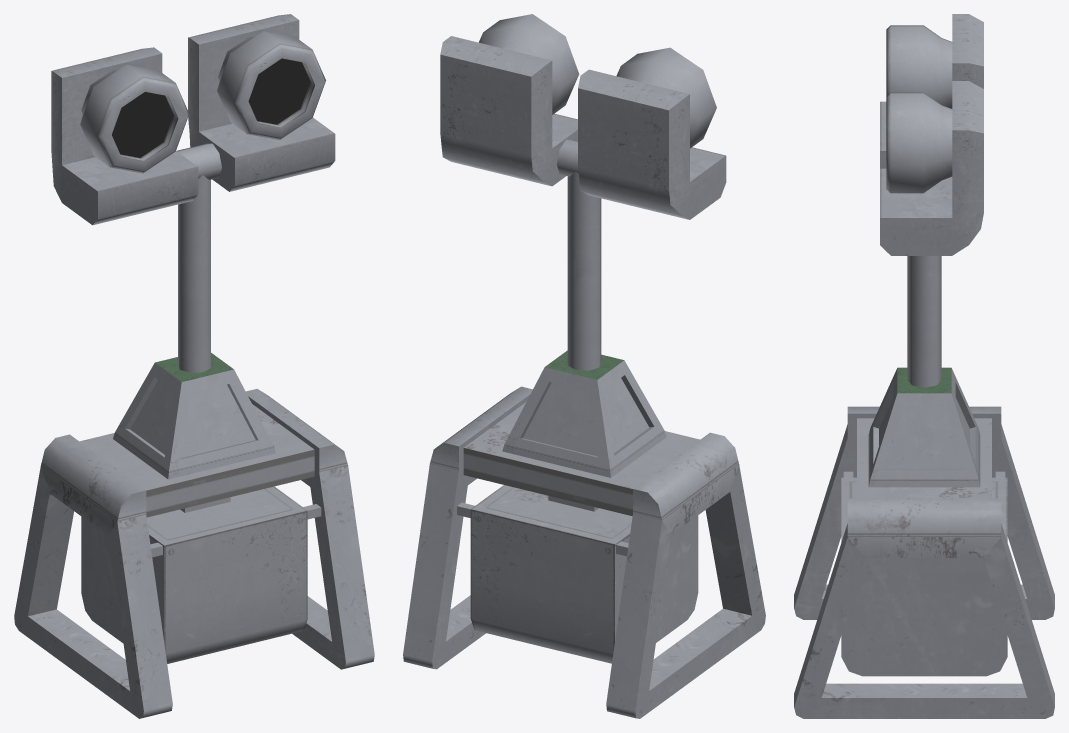
Rendered from Fbx_Props_LabEq_CaveLights.fbx.
The picture shows the model from 3 angles, left to right: view 1: azimuth 30°, elevation 25°; view 2: azimuth 150°, elevation 25°; view 3: azimuth 270°, elevation 25°; orthographic projection.
Parts seen in each view (by area): view 1: pCube10, pCube15, pCube12, pCube13, pCube8, pCube14, pCylinder17, pCylinder18, pCube11, pCylinder16, pCylinder19; view 2: pCube10, pCube15, pCube13, pCube14, pCube12, pCube8, pCube11, pCylinder16, pCylinder18, pCylinder17, pCylinder19; view 3: pCube8, pCube10, pCube12, pCube14, pCube15, pCylinder18, pCylinder17, pCylinder16, pCube11, pCube13.
Part boxes in pixels (x1,y1,x2,y2): pCube10: (81,486,307,663); pCube15: (14,434,172,718); pCube12: (113,353,275,479); pCube13: (51,47,198,225); pCube8: (245,389,374,669); pCube14: (188,14,335,191); pCylinder17: (80,64,189,173); pCylinder18: (217,31,325,140); pCube11: (79,404,314,517); pCylinder16: (178,175,210,372); pCylinder19: (177,143,221,179); pCube10: (470,485,698,663); pCube15: (606,432,765,718); pCube13: (578,69,726,219); pCube14: (440,36,577,186); pCube12: (502,350,666,477); pCube8: (403,386,532,669); pCube11: (463,402,699,516); pCylinder16: (567,171,601,370); pCylinder18: (479,14,579,114); pCylinder17: (616,47,716,148); pCylinder19: (556,139,578,176); pCube8: (794,498,1054,718); pCube10: (841,477,1007,676); pCube12: (868,367,980,487); pCube14: (880,81,983,255); pCube15: (794,406,1054,619); pCylinder18: (886,92,952,193); pCylinder17: (886,25,952,108); pCylinder16: (907,256,941,387); pCube11: (857,418,991,498); pCube13: (880,14,983,168).
Size of the model in its own units: 103 by 248 by 97.37.
